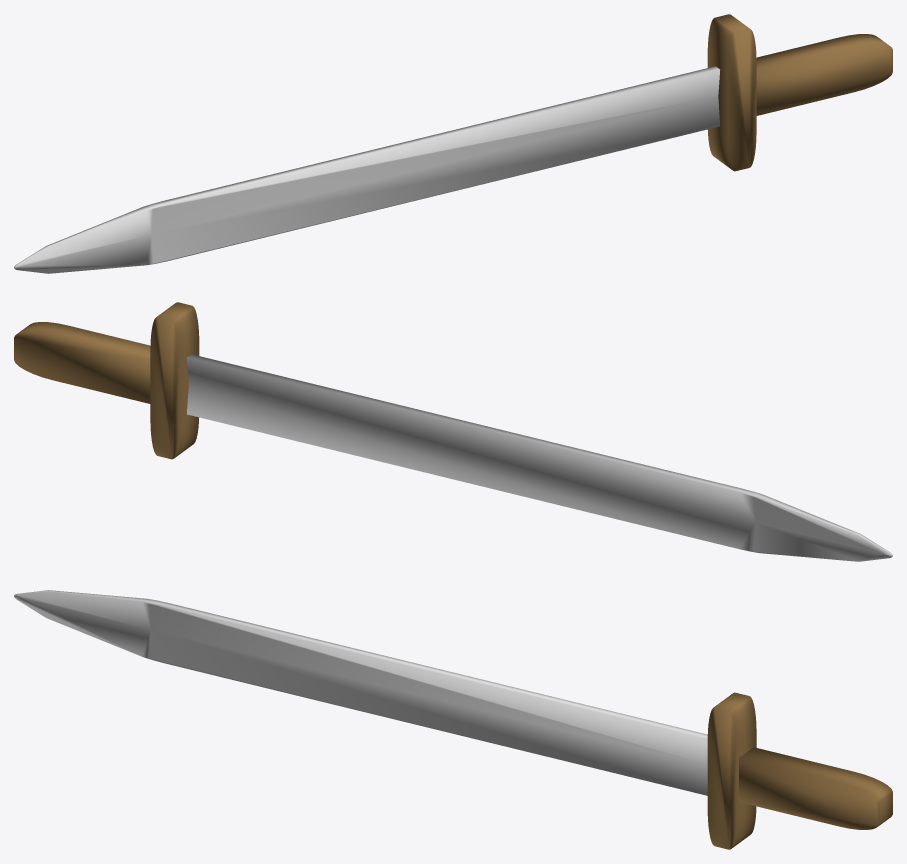
Rendered from Sword.fbx.
The picture shows the model from 3 angles, top to bottom: view 1: azimuth 30°, elevation 25°; view 2: azimuth 150°, elevation 25°; view 3: azimuth 330°, elevation 25°; orthographic projection.
Visible parts, largest first — view 1: Cube, Cube.002, Cube.001; view 2: Cube, Cube.002, Cube.001; view 3: Cube, Cube.002, Cube.001.
Boxes of the visible parts, x1,y1,x2,y2 form: Cube: (14,66,719,273); Cube.002: (756,34,892,115); Cube.001: (707,14,756,171); Cube: (187,354,892,561); Cube.002: (14,322,150,403); Cube.001: (150,302,199,459); Cube: (14,590,707,795); Cube.002: (739,747,892,829); Cube.001: (707,692,756,849).
Size of the model in its own units: 821 by 125 by 33.3.
